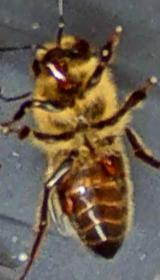varroa_mite: (54, 192, 85, 221), (95, 150, 120, 184)
